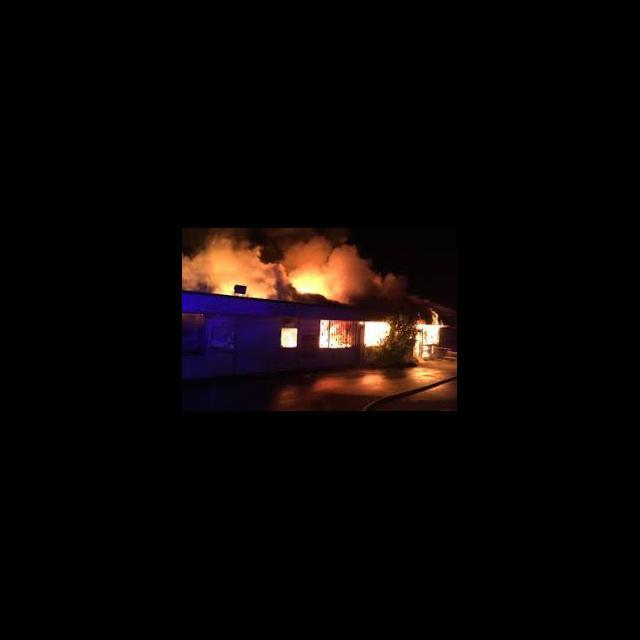Fire: (212, 280, 277, 300), (288, 271, 334, 299), (413, 324, 447, 361), (321, 318, 354, 349), (364, 320, 388, 348), (280, 328, 298, 348)
